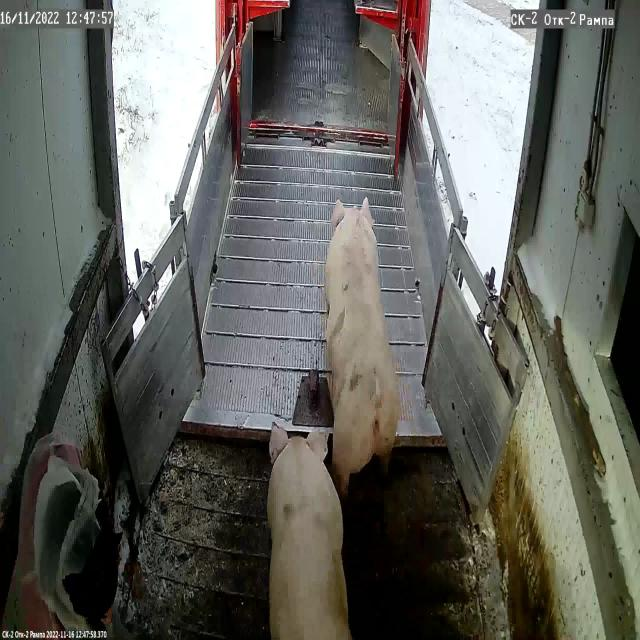pig: (325, 198, 400, 479), (267, 423, 349, 640)
